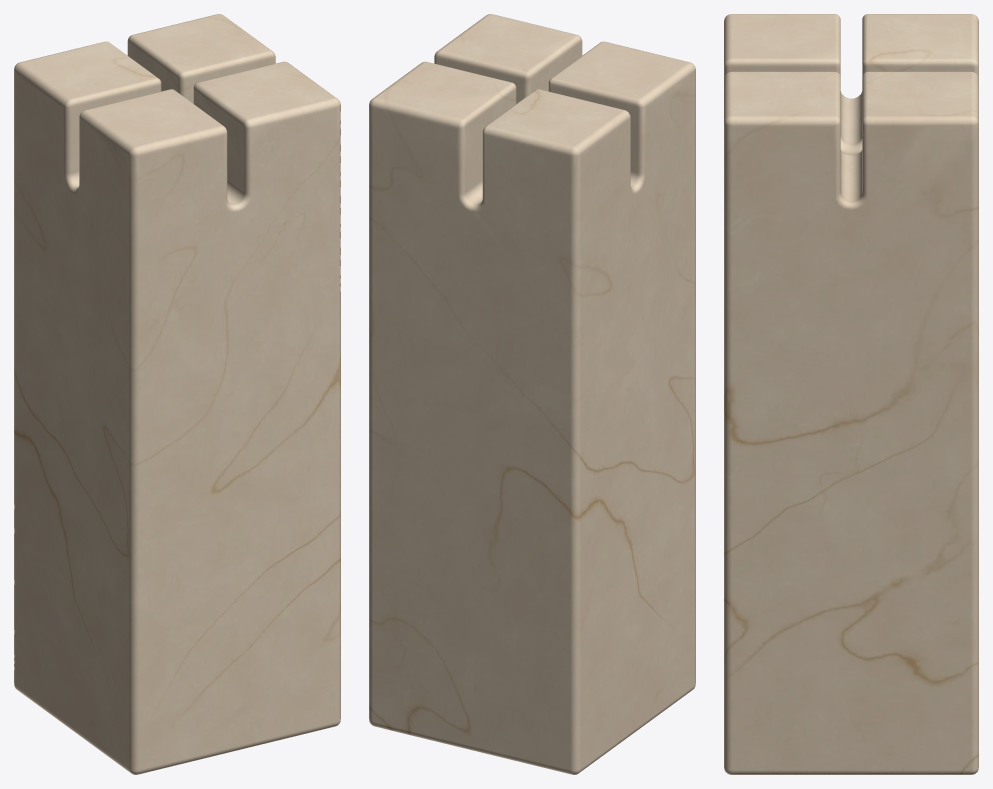
The model's file is rook-white-hd.glb.
The picture shows the model from 3 angles, left to right: view 1: azimuth 30°, elevation 25°; view 2: azimuth 150°, elevation 25°; view 3: azimuth 270°, elevation 25°; orthographic projection. The views are drawn at different scales.
Parts seen in each view (by area): view 1: vez_bily; view 2: vez_bily; view 3: vez_bily.
Boxes of the visible parts, x1=… form: vez_bily: x1=14, y1=14, x2=340, y2=774; vez_bily: x1=369, y1=14, x2=695, y2=774; vez_bily: x1=724, y1=14, x2=978, y2=774.
Size of the model in its own units: 0.4281 by 1.22 by 0.4281.
Materials: 1 (1 with a texture image).
